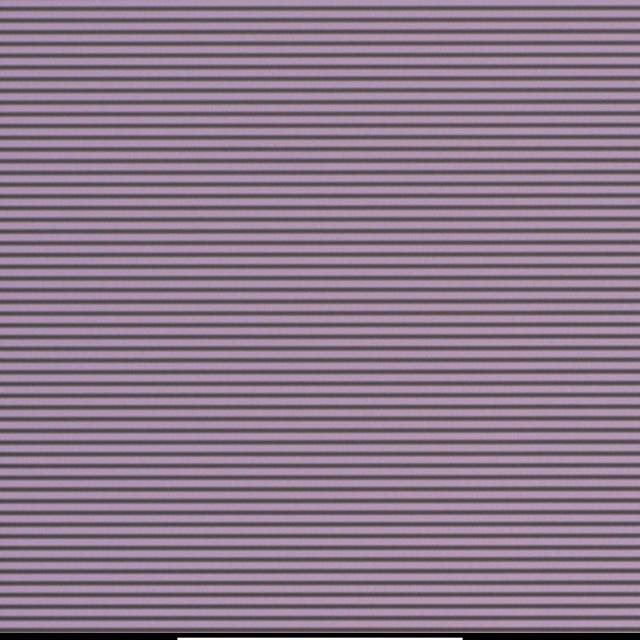nonvisual: (304, 290, 312, 296)
